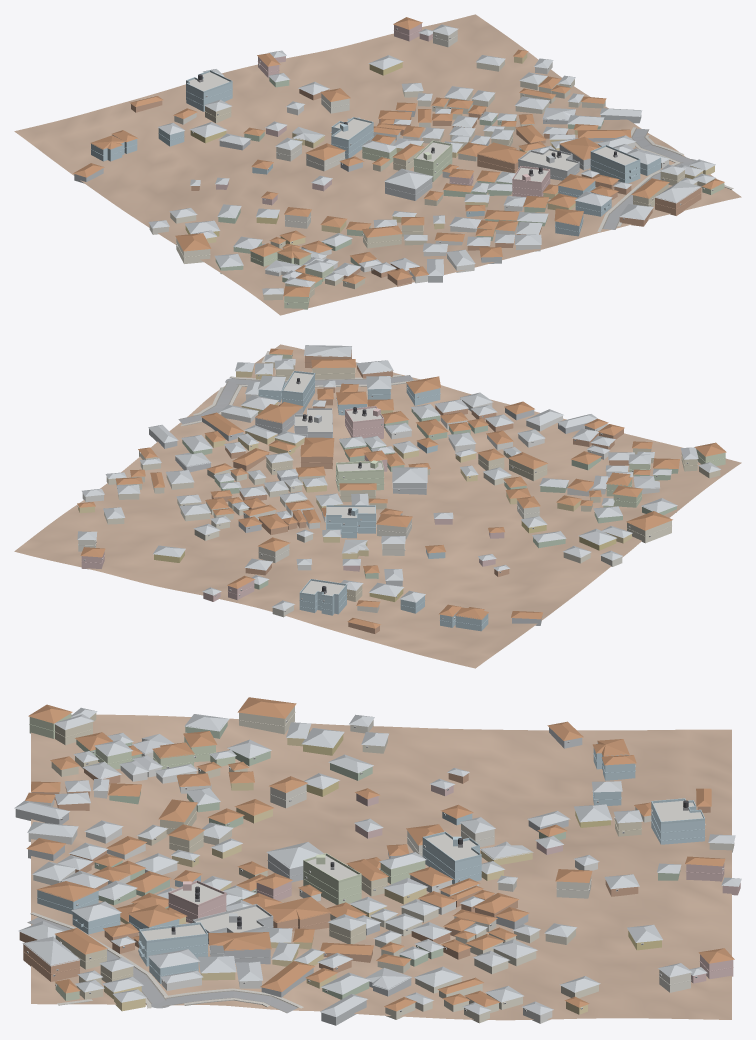
3 views of the same model, one above another, from view 1: azimuth 30°, elevation 25°; view 2: azimuth 150°, elevation 25°; view 3: azimuth 270°, elevation 25° (orthographic). The views are drawn at different scales.
Parts seen in each view (by area): view 1: Buildings-col, Terrain-col, Details, Roads-col, Sidewalks-col; view 2: Buildings-col, Terrain-col, Details, Roads-col, Sidewalks-col; view 3: Buildings-col, Terrain-col, Details, Roads-col, Sidewalks-col.
Part boxes in pixels (bbox=[...]): Buildings-col: bbox=[73, 17, 724, 309]; Terrain-col: bbox=[14, 14, 741, 315]; Details: bbox=[90, 28, 713, 304]; Roads-col: bbox=[602, 128, 696, 229]; Sidewalks-col: bbox=[597, 127, 733, 232]; Buildings-col: bbox=[77, 345, 726, 633]; Terrain-col: bbox=[14, 344, 741, 668]; Details: bbox=[77, 353, 725, 625]; Roads-col: bbox=[178, 375, 413, 424]; Sidewalks-col: bbox=[181, 351, 420, 426]; Buildings-col: bbox=[14, 697, 741, 1025]; Terrain-col: bbox=[31, 714, 731, 1020]; Details: bbox=[23, 712, 733, 1011]; Roads-col: bbox=[27, 917, 298, 1013]; Sidewalks-col: bbox=[30, 912, 303, 1008].
Size of the model in its own units: 273 by 22.9 by 266.
